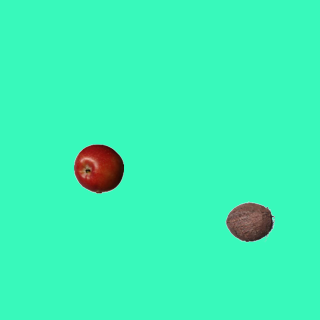Apple Braeburn: (73, 143, 123, 193)
Cocos: (224, 196, 274, 246)
